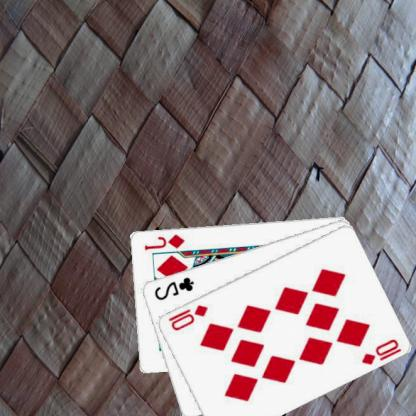10D: (360, 336, 405, 366), (167, 302, 211, 332)
2C: (152, 274, 196, 302)
JD: (143, 232, 188, 252)
